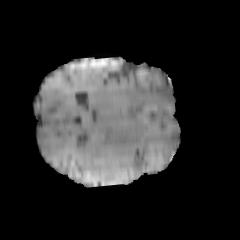glioma: (72, 125, 147, 184)
